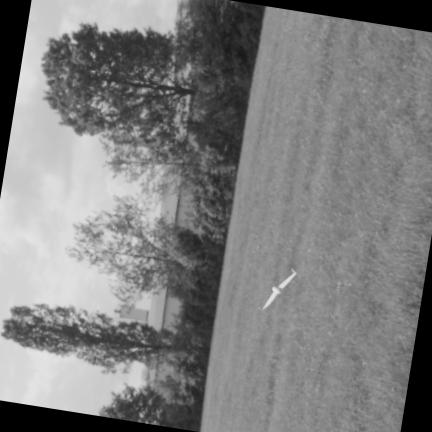Shahed: (260, 271, 298, 312)
